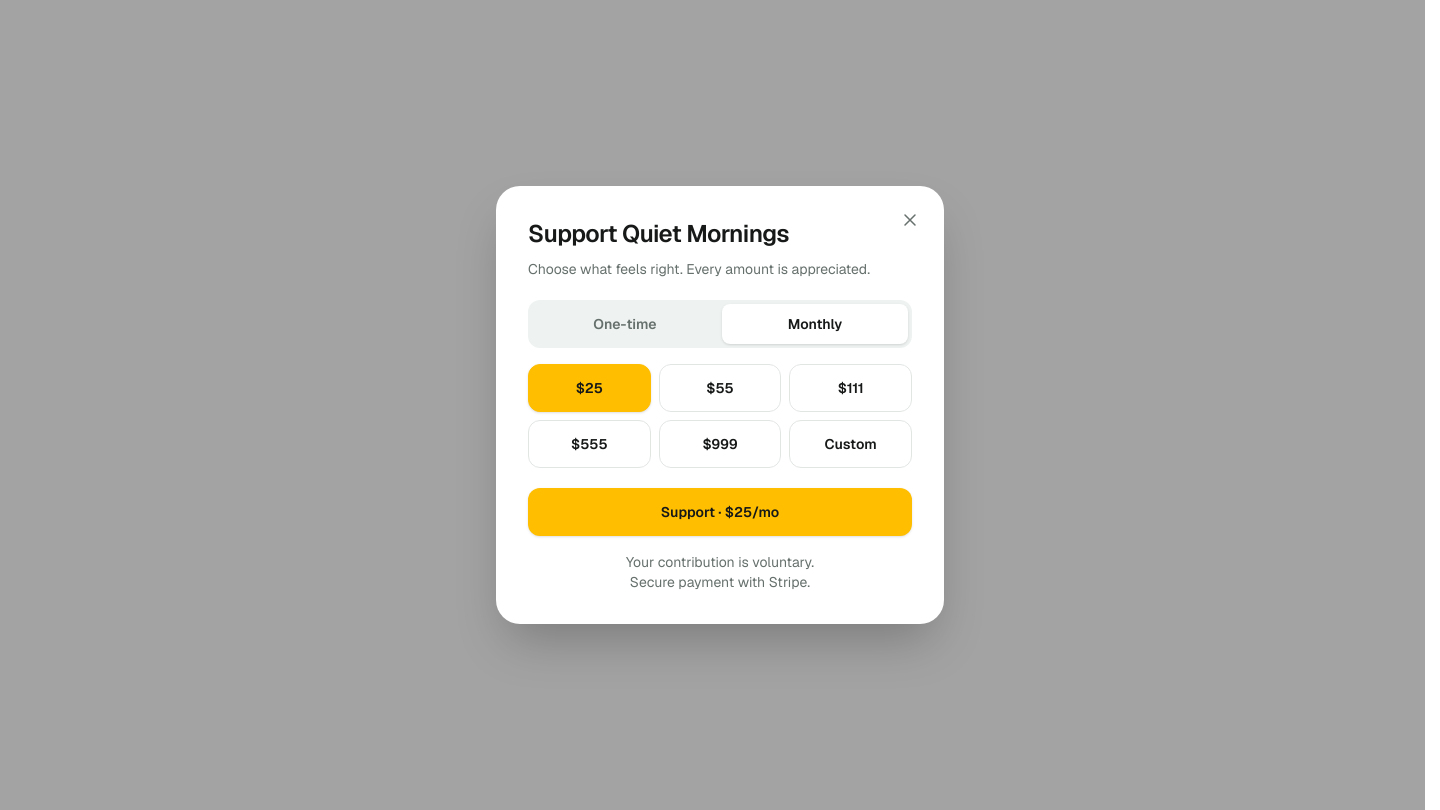
Test: SupportModal: confirm step › labels monthly gifts
Click the button "Support · $25/mo".
click(720, 512)  # box left=528, top=488, right=912, bottom=536
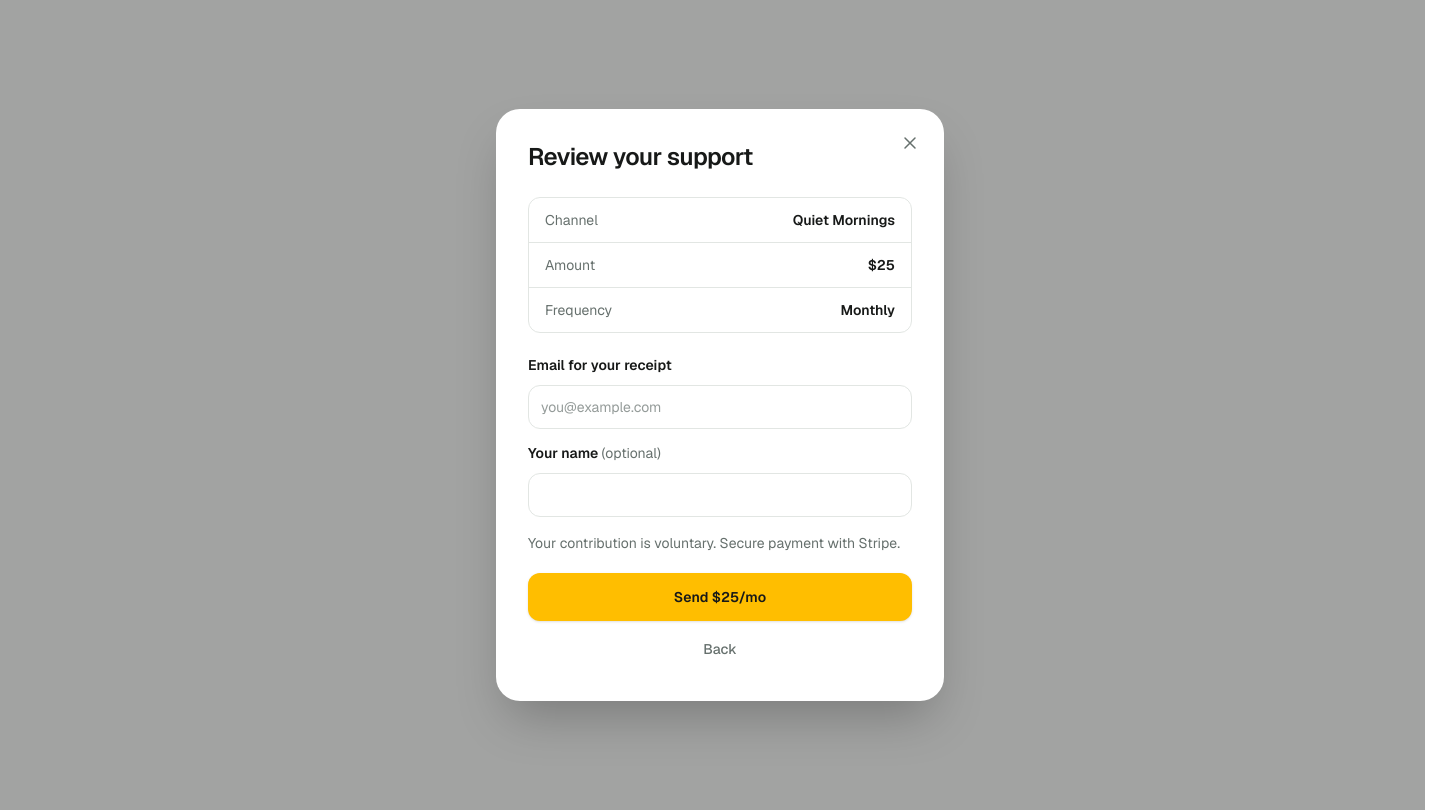
Result: the button "Send $25/mo" is shown at left=528, top=573, right=912, bottom=621
